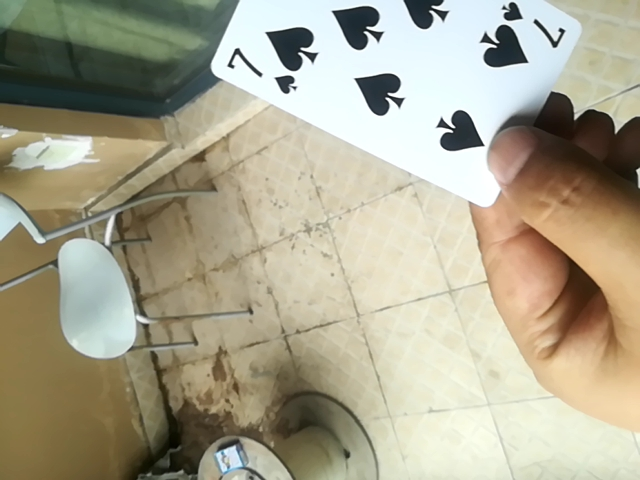ht 7: (212, 1, 592, 219)
